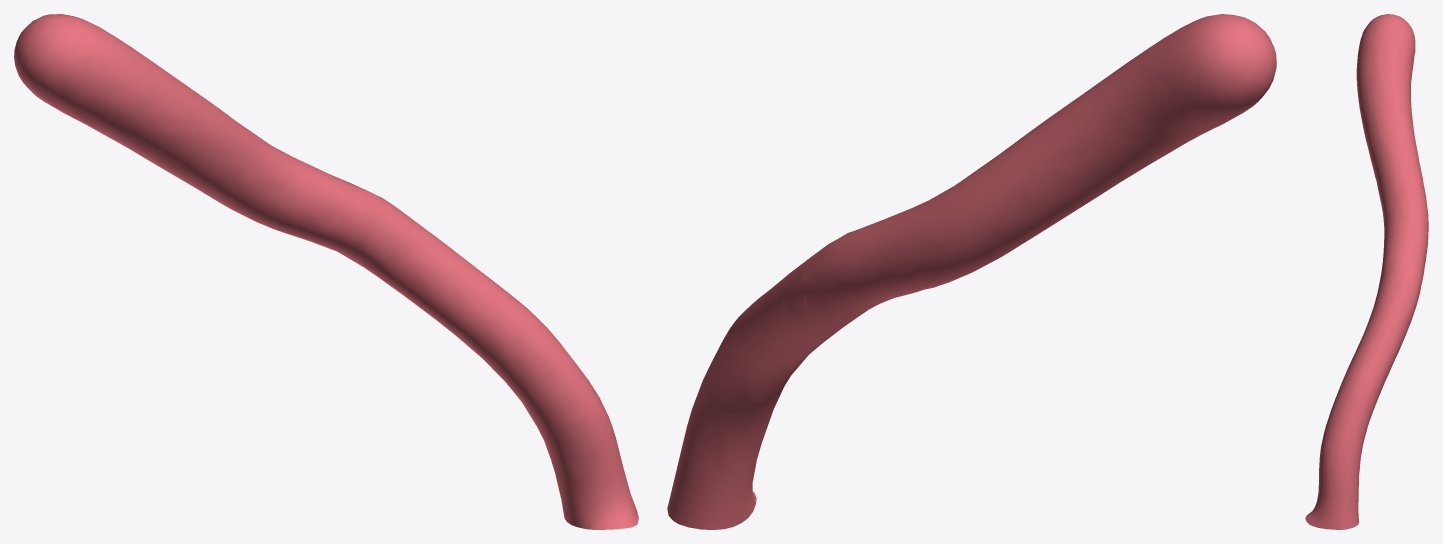
File: fma51241_mm3626.glb
The picture shows the model from 3 angles, left to right: view 1: azimuth 30°, elevation 25°; view 2: azimuth 150°, elevation 25°; view 3: azimuth 270°, elevation 25°; orthographic projection. The views are drawn at different scales.
Visible parts, largest first — view 1: FMA51241_MM3626; view 2: FMA51241_MM3626; view 3: FMA51241_MM3626.
Boxes of the visible parts, x1=… form: FMA51241_MM3626: x1=14, y1=14, x2=638, y2=529; FMA51241_MM3626: x1=667, y1=14, x2=1276, y2=529; FMA51241_MM3626: x1=1305, y1=14, x2=1428, y2=529.
Bounding box in the file's own units: 0.0642 × 0.0635 × 0.0199.
